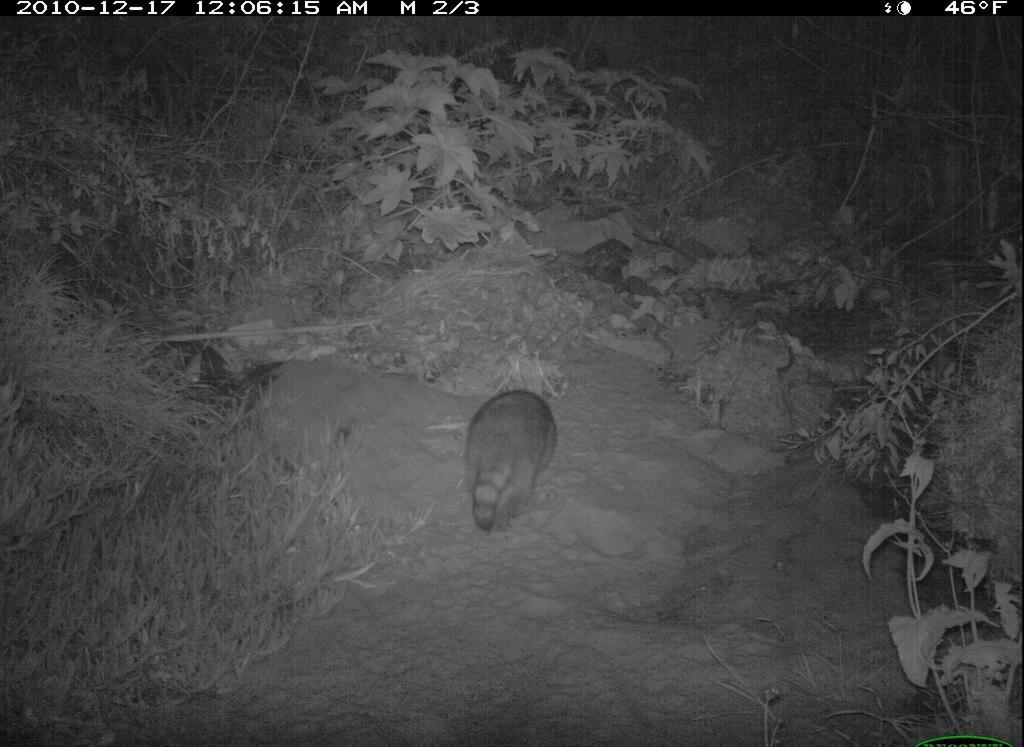raccoon: (452, 383, 570, 543)
